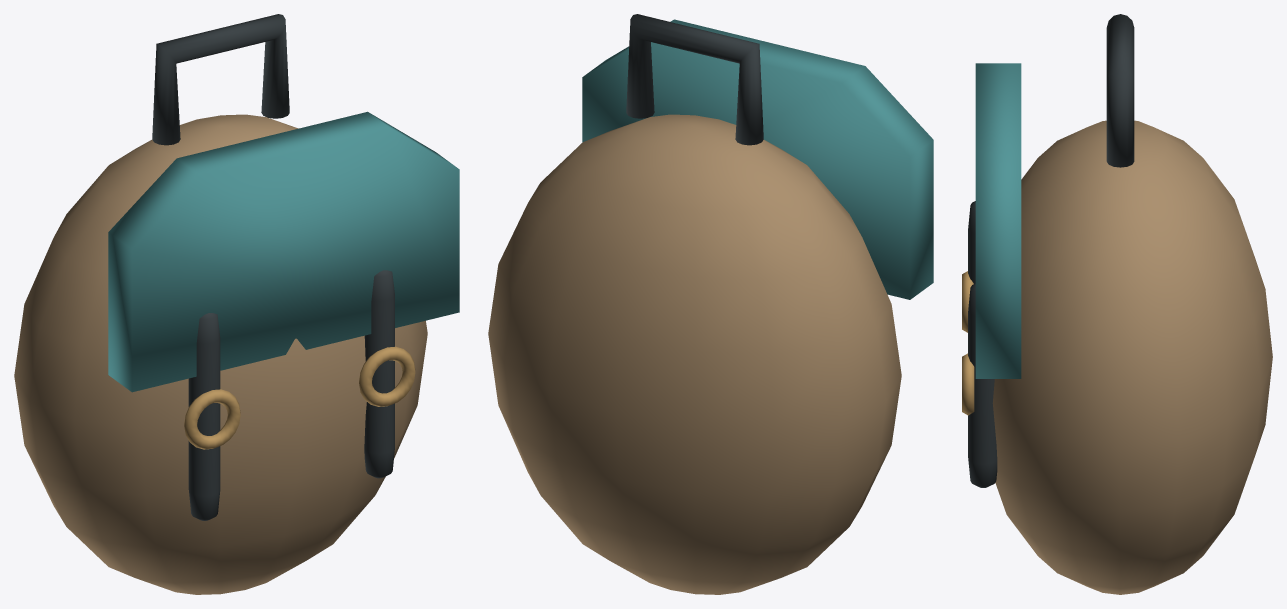
File: field-backpack.glb
3 views of the same model, side by side, from view 1: azimuth 30°, elevation 25°; view 2: azimuth 150°, elevation 25°; view 3: azimuth 270°, elevation 25° (orthographic). The views are drawn at different scales.
Visible parts, largest first — view 1: field-backpack; view 2: field-backpack; view 3: field-backpack.
Boxes of the visible parts, x1,y1,x2,y2 form: field-backpack: (14, 14, 459, 594); field-backpack: (488, 14, 933, 594); field-backpack: (962, 14, 1272, 594).
Bounding box in the file's own units: 14 × 19.36 × 10.2.
